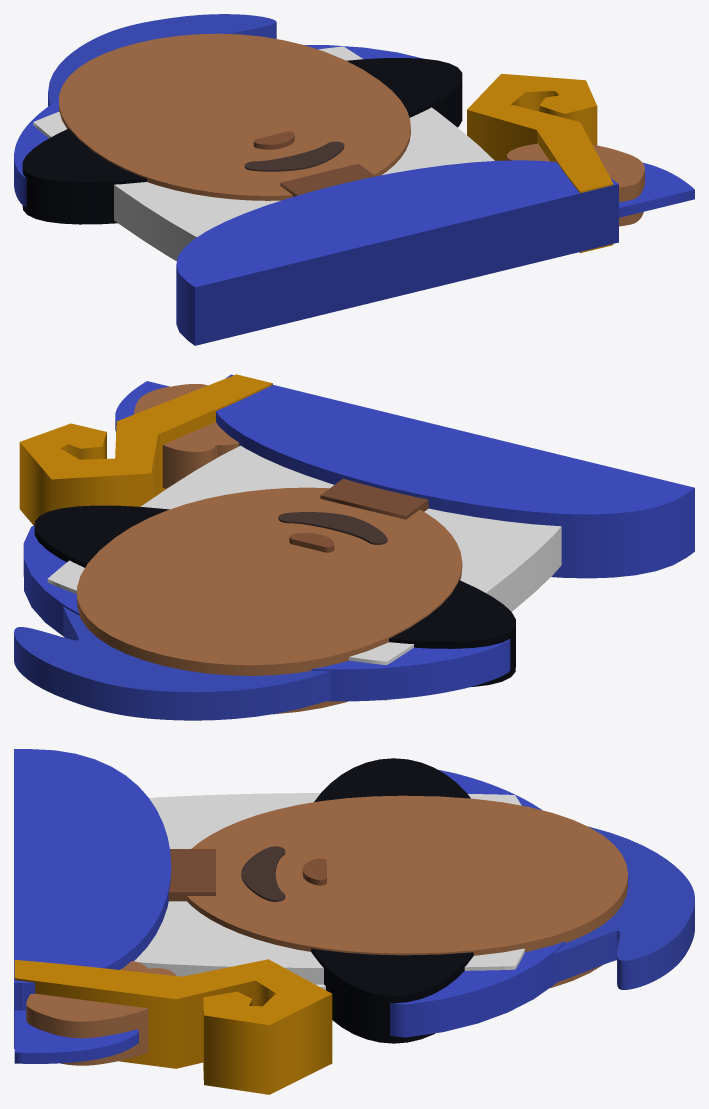
File: emoji_u1f9d9_1f3fe_200d_2640.glb
3 views of the same model, one above another, from view 1: azimuth 30°, elevation 25°; view 2: azimuth 150°, elevation 25°; view 3: azimuth 270°, elevation 25° (orthographic). The views are drawn at different scales.
Parts seen in each view (by area): view 1: emoji_u1f9d9_1f3fe_200d_2640; view 2: emoji_u1f9d9_1f3fe_200d_2640; view 3: emoji_u1f9d9_1f3fe_200d_2640.
Boxes of the visible parts, bbox=[...] form: emoji_u1f9d9_1f3fe_200d_2640: bbox=[14, 14, 694, 345]; emoji_u1f9d9_1f3fe_200d_2640: bbox=[14, 374, 694, 720]; emoji_u1f9d9_1f3fe_200d_2640: bbox=[14, 749, 694, 1094].
Size of the model in its own units: 0.0325 by 0.0038 by 0.0337.
